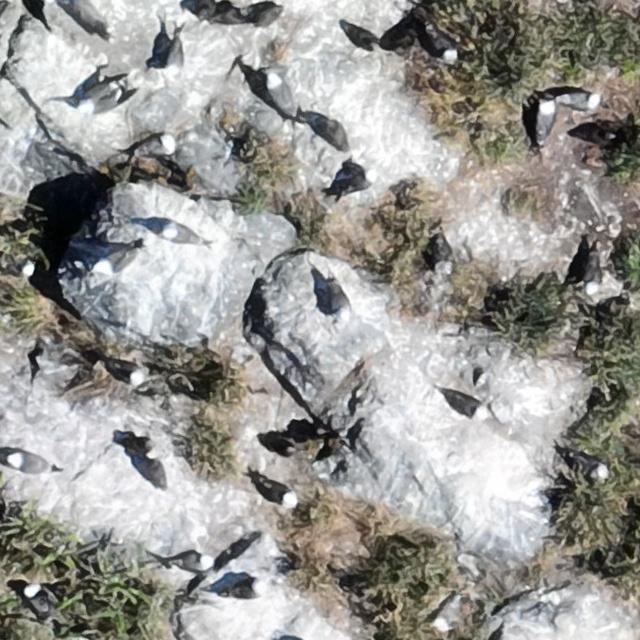umineko: (92, 246, 138, 277), (429, 25, 461, 64), (134, 135, 178, 159), (328, 282, 351, 324), (80, 83, 119, 105), (448, 395, 485, 418), (172, 551, 214, 571), (259, 481, 295, 504), (224, 580, 266, 598), (9, 452, 46, 472), (537, 102, 556, 140), (561, 93, 600, 110), (164, 227, 203, 244), (341, 172, 373, 191), (578, 460, 608, 480), (110, 362, 140, 382), (266, 74, 282, 108), (26, 586, 47, 608), (168, 42, 182, 70)
